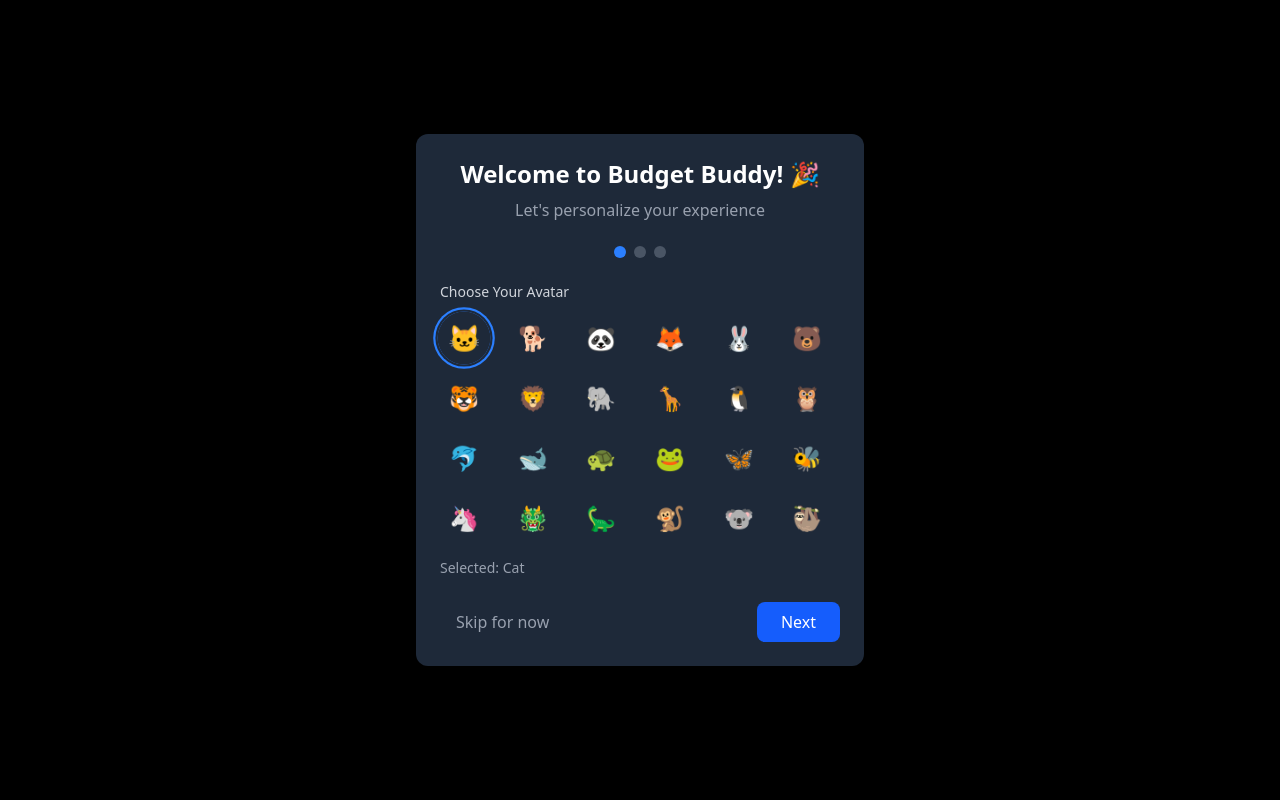
Test: WelcomeModal › shows error message when skip fails
Click the button "Skip for now": (503, 622) x1=440 y1=602 x2=565 y2=642
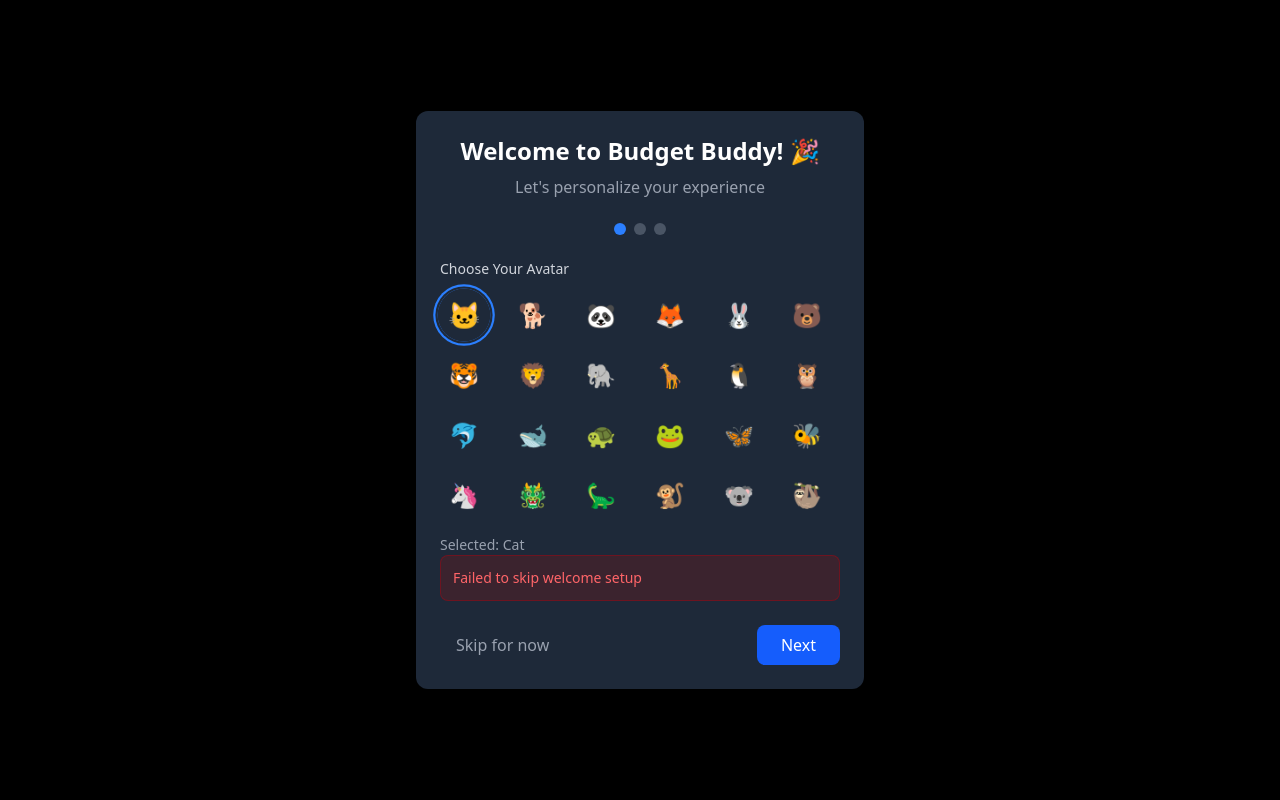
Expected: the text "Failed to skip welcome setup" is shown, x1=440 y1=555 x2=840 y2=601
